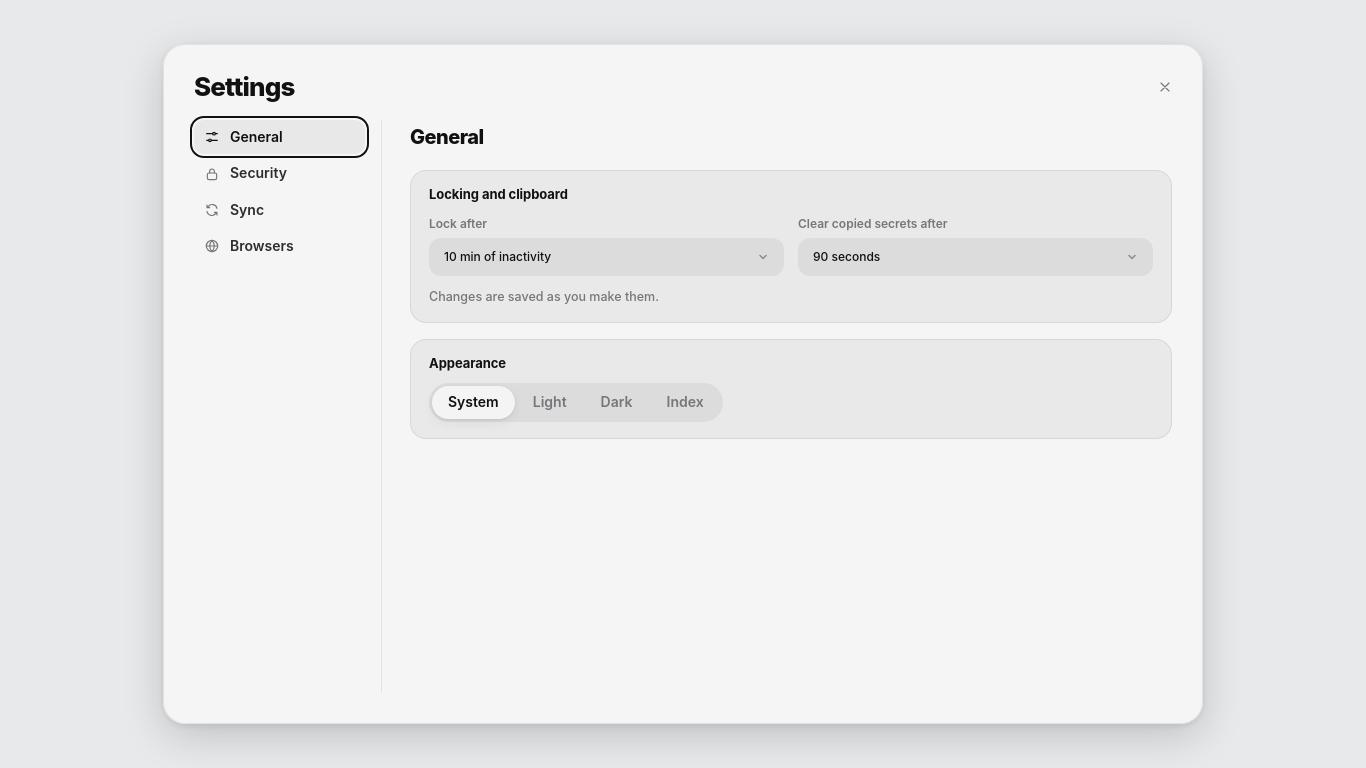
categories: General, Security, Sync, Browsers; one pane at a time; arrows move
expect the tabs read "General", "Security", "Sync", "Browsers", in this order: met, box [194,120,365,154]; [194,156,365,191]; [194,193,365,227]; [194,229,365,263]
expect the button "Change password" is not shown: met
Press Arrowdown
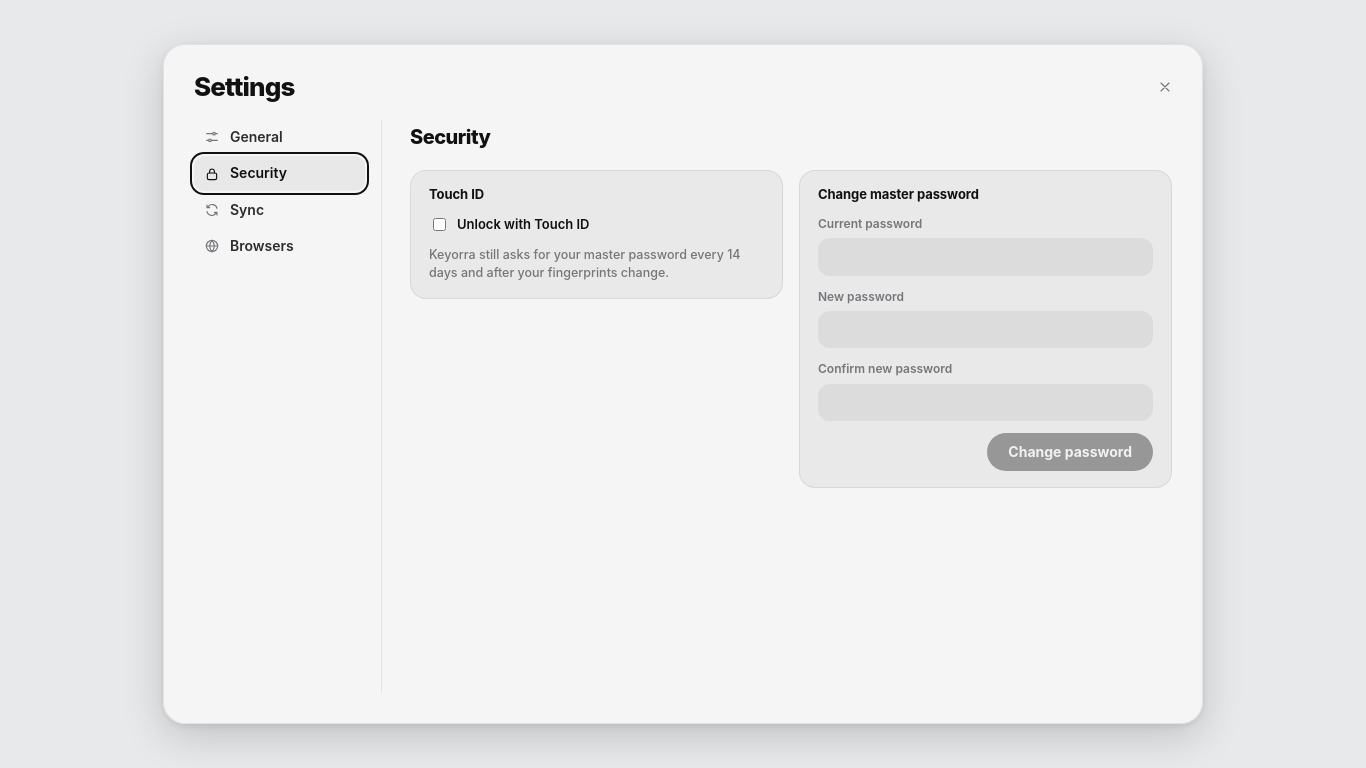
expect the button "Change password" is shown: met, box [987,433,1153,471]
Press End
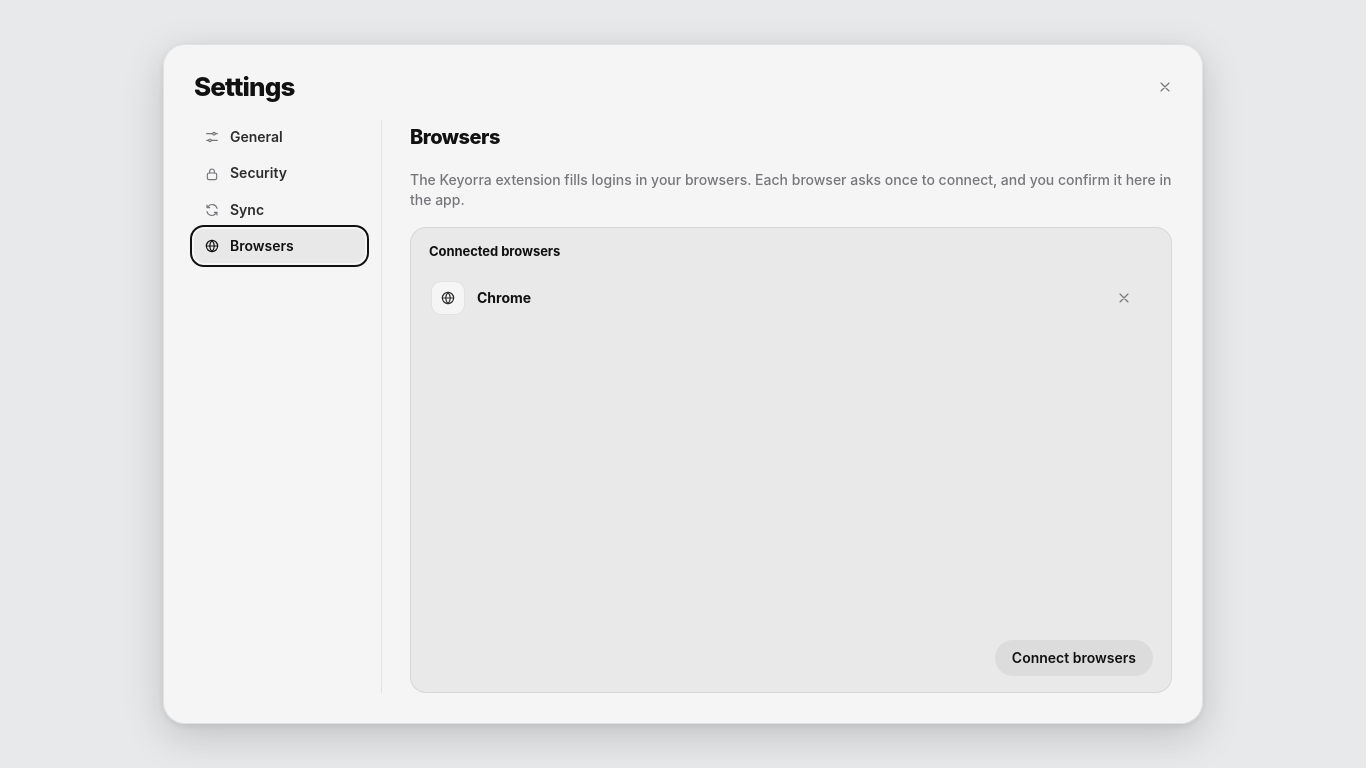
expect the tab "Browsers" is selected: met, box [194,229,365,263]
Press Arrowdown
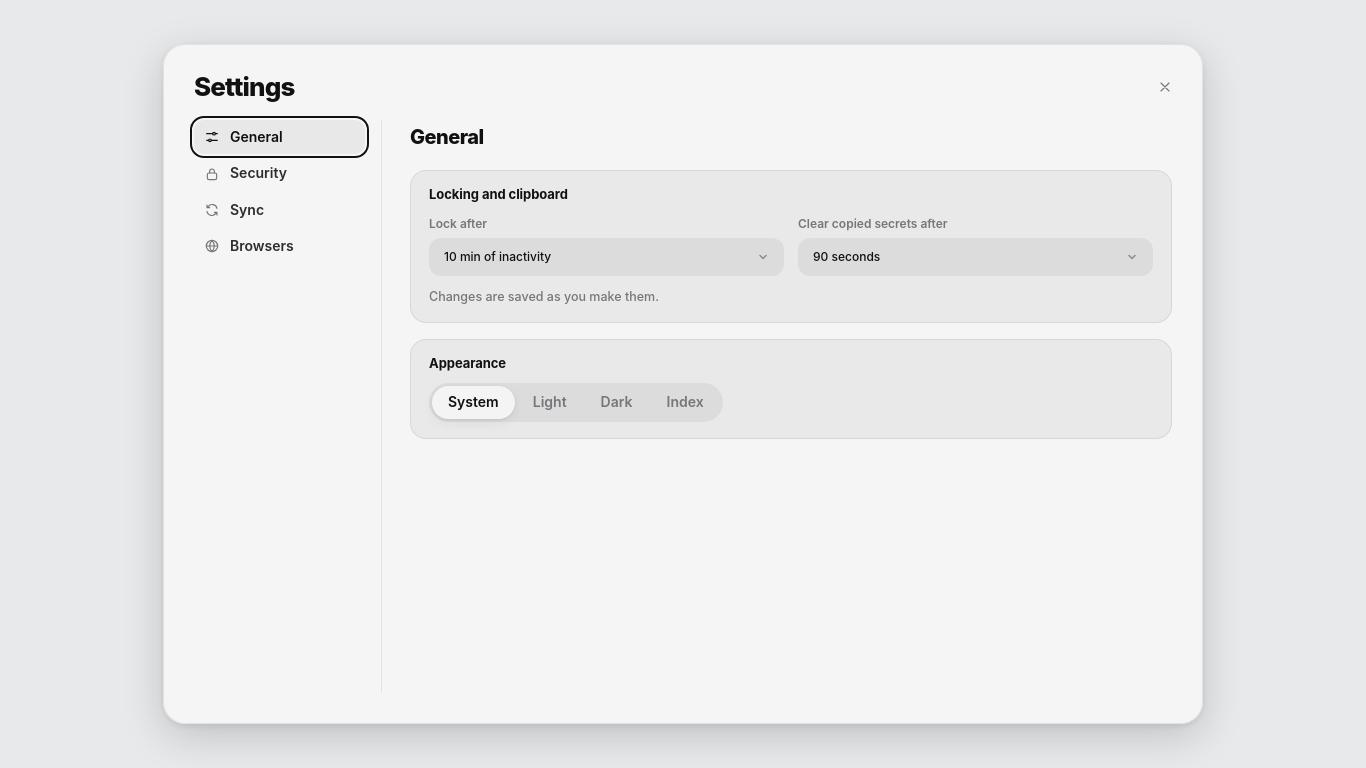
Click the tab "Sync" at {"x": 280, "y": 210}, box [194,193,365,227]
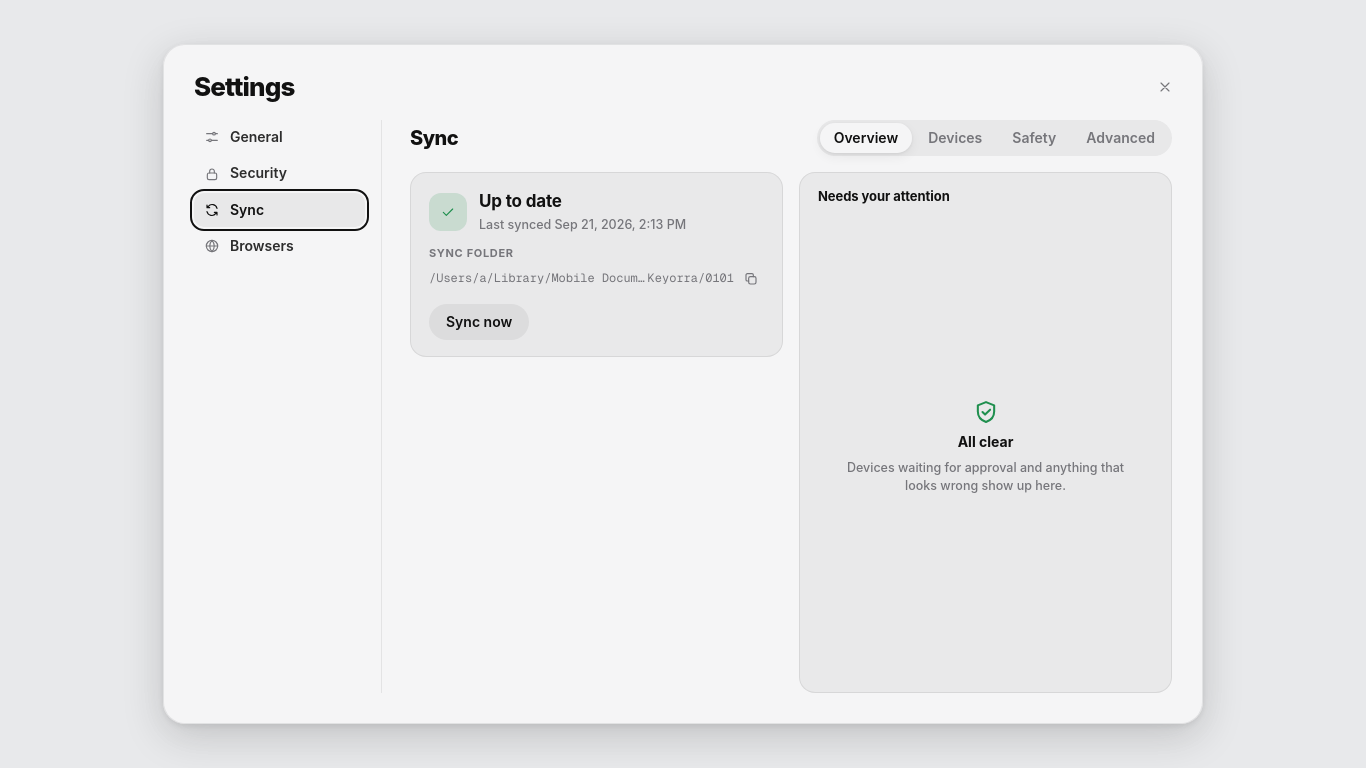
expect the element named "Sync sections" is shown: met, box [817,120,1172,156]
